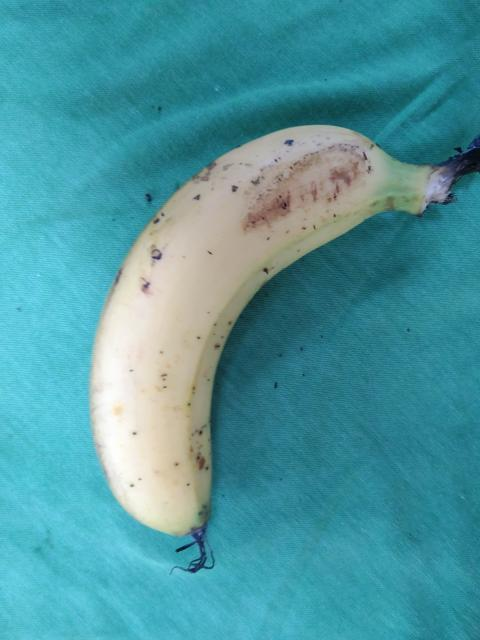ripe: (84, 121, 405, 537)
